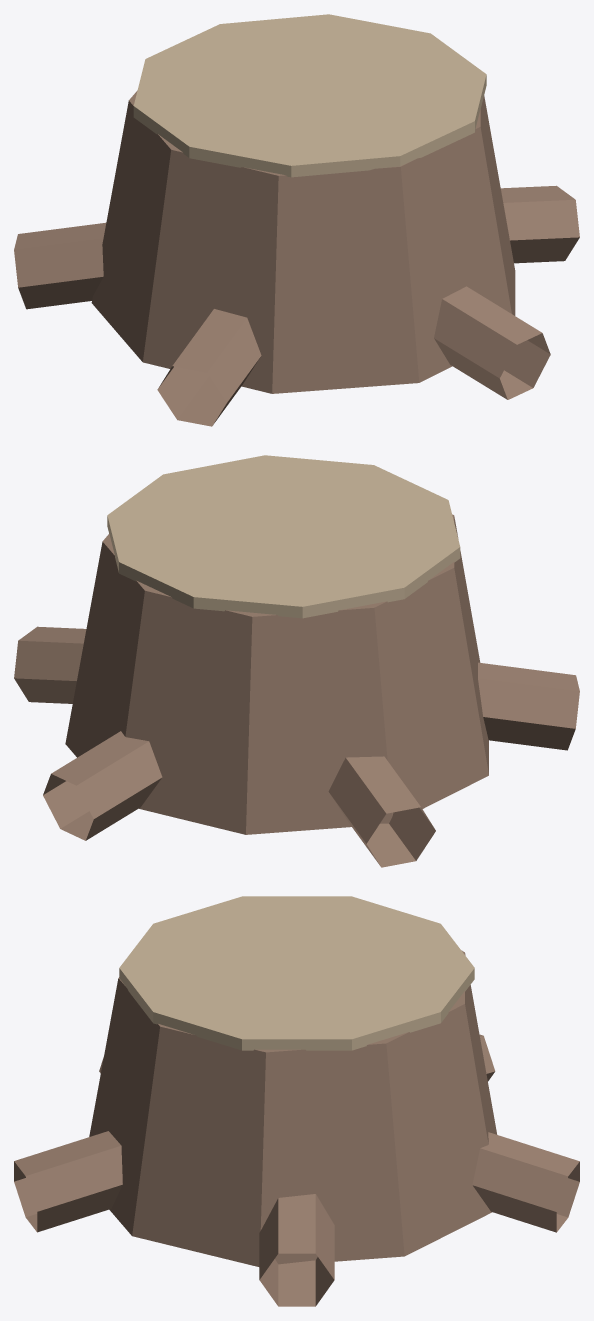
The picture shows the model from 3 angles, top to bottom: view 1: azimuth 30°, elevation 25°; view 2: azimuth 150°, elevation 25°; view 3: azimuth 270°, elevation 25°; orthographic projection.
Visible parts, largest first — view 1: C05; view 2: C05; view 3: C05.
Boxes of the visible parts, x1,y1,x2,y2 form: C05: (14, 14, 579, 426); C05: (14, 455, 579, 867); C05: (14, 896, 579, 1306).
Size of the model in its own units: 1.09 by 0.4863 by 1.13.
